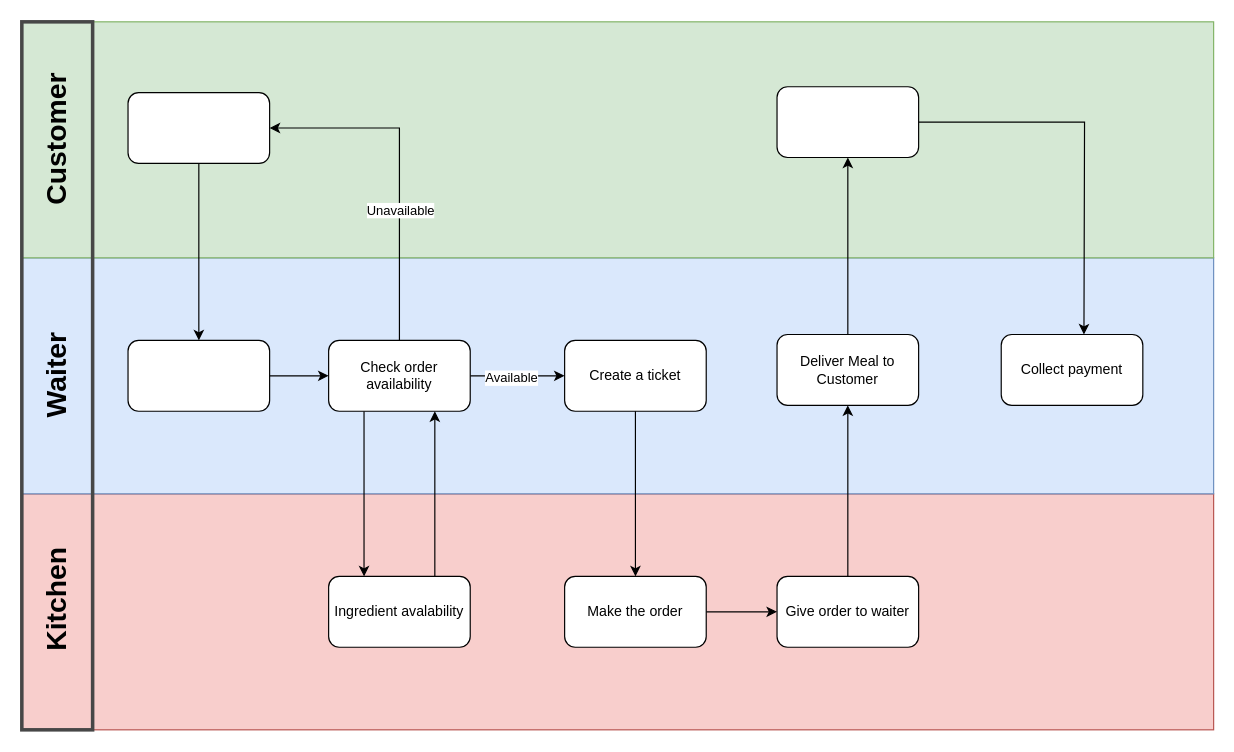
This 1234x752 diagram has some shape labels left out. The shapes that lost their labels are listed below. From the top down, each one's centre as x and y in pixels, then its label:
[198,127]: Customer orders a dish
[847,122]: Pay the bill to restaurant
[198,375]: Take the order
